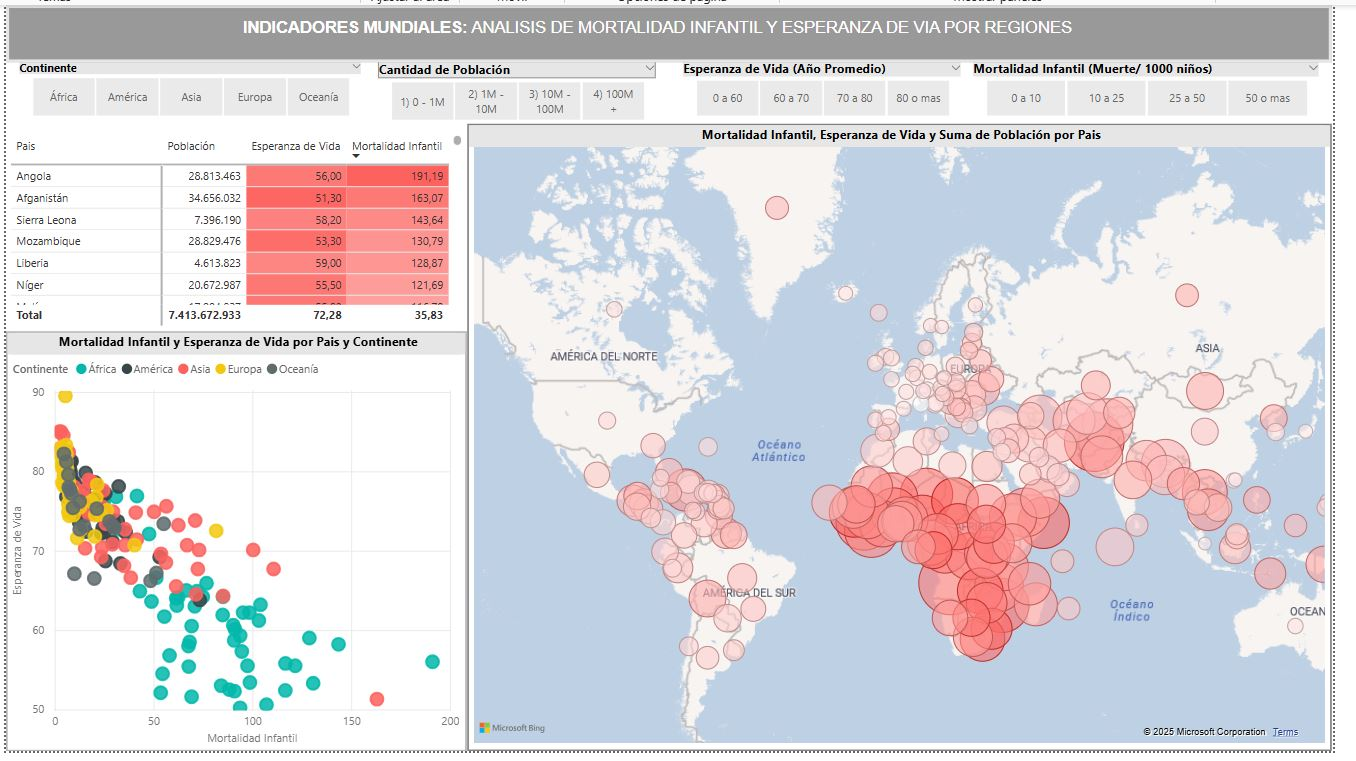

Layout of this report page (visuals, bound fields, positions):
{"tool":"powerbi","page":{"name":"Indicadores Mundiales","canvas":[1280,720],"ordinal":0},"visuals":[{"type":"pivotTable","fields":{"Rows":["Paises.Continente","Paises.Pais"],"Values":["Sum(Population.Población)","Avg(Esperanza de vida.Esperanza de Vida)","Avg(Mortalidad Infantil.Mortalidad Infantil)"]},"box":[0,120.9,445.1,193.4],"z":0},{"type":"slicer","fields":{"Values":["Population.Cantidad de Población"]},"box":[346.6,48.4,293.7,65.4],"z":1000},{"type":"slicer","fields":{"Values":["Paises.Continente"]},"box":[0,48.4,355.5,65.4],"z":2000},{"type":"map","fields":{"Size":["Avg(Mortalidad Infantil.Mortalidad Infantil)"],"Category":["Paises.Jerarquía Contine-Pais.Continente","Paises.Jerarquía Contine-Pais.Pais"]},"box":[445.1,114.6,834.6,605.4],"z":3000},{"type":"slicer","fields":{"Values":["Esperanza de vida.Esperanza de Vida (Año Promedio)"]},"box":[640.3,48.4,293.7,65.4],"z":4000},{"type":"slicer","fields":{"Values":["Mortalidad Infantil.Mortalidad Infantil (Muerte/ 1000 niños)"]},"box":[920.6,48.4,359.1,65.4],"z":5000},{"type":"scatterChart","fields":{"X":["Avg(Mortalidad Infantil.Mortalidad Infantil)"],"Y":["Avg(Esperanza de vida.Esperanza de Vida)"],"Category":["Paises.Pais"],"Series":["Paises.Continente"]},"box":[0,314.3,445.1,405.7],"z":6000},{"type":"shape","box":[0,0,1279.7,55.5],"z":7000},{"type":"textbox","box":[9,7.2,1240.3,41.2],"z":8000}]}

Visuals, with their boxes on the page's 1280x720 design canvas (x1, y1, x2, y2). These are canvas units, not pixel positions in the 1356x761 screenshot, which may show the page scaled, cropped or inside an application window:
pivotTable - Paises.Continente x Paises.Pais: [0,121,445,314]
slicer - Population.Cantidad de Población: [347,48,640,114]
slicer - Paises.Continente: [0,48,356,114]
map - Avg(Mortalidad Infantil.Mortalidad Infantil) x Paises.Jerarquía Contine-Pais.Continente: [445,115,1280,720]
slicer - Esperanza de vida.Esperanza de Vida (Año Promedio): [640,48,934,114]
slicer - Mortalidad Infantil.Mortalidad Infantil (Muerte/ 1000 niños): [921,48,1280,114]
scatterChart - Avg(Mortalidad Infantil.Mortalidad Infantil) x Avg(Esperanza de vida.Esperanza de Vida): [0,314,445,720]
shape: [0,0,1280,56]
textbox: [9,7,1249,48]
